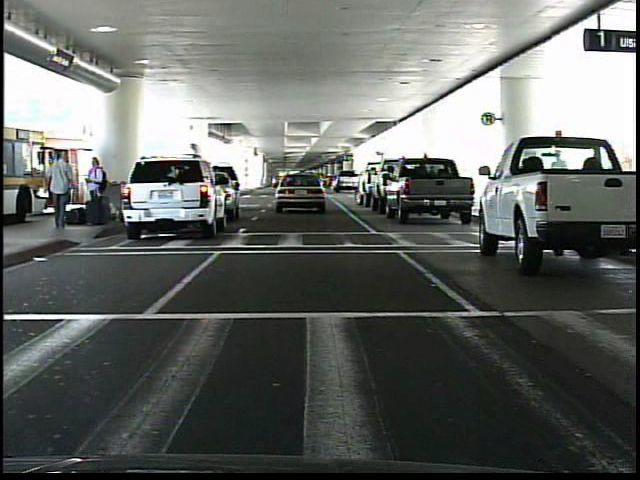person: (49, 150, 82, 234), (85, 155, 111, 229)
